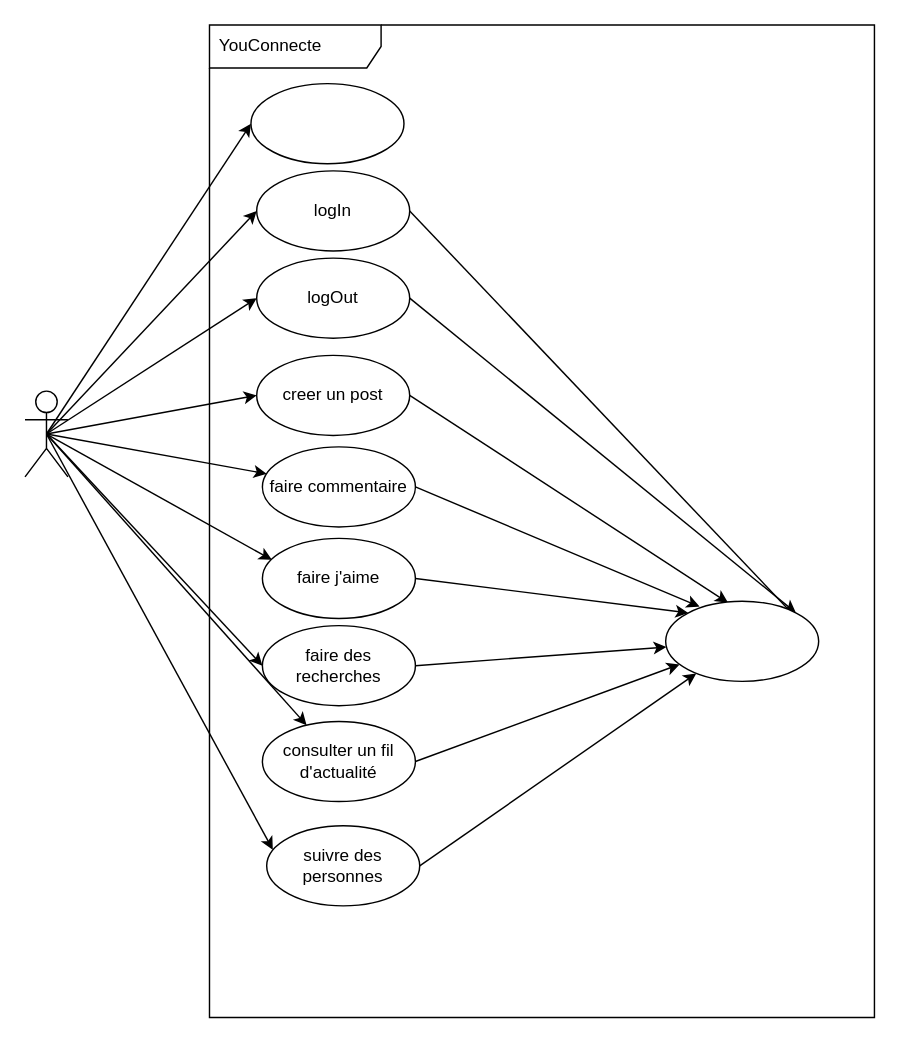
Some shapes in this 899 by 1042 pixel diagram are drawn without their labels. The centre of each missing label's shape, as x and y in pixels:
"authentification" belongs at pixel 741 640.
"s'inscrire" belongs at pixel 327 123.
"User" belongs at pixel 46 433.
